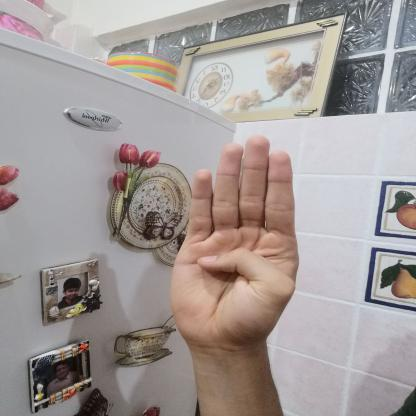KAAF: (147, 124, 321, 364)
